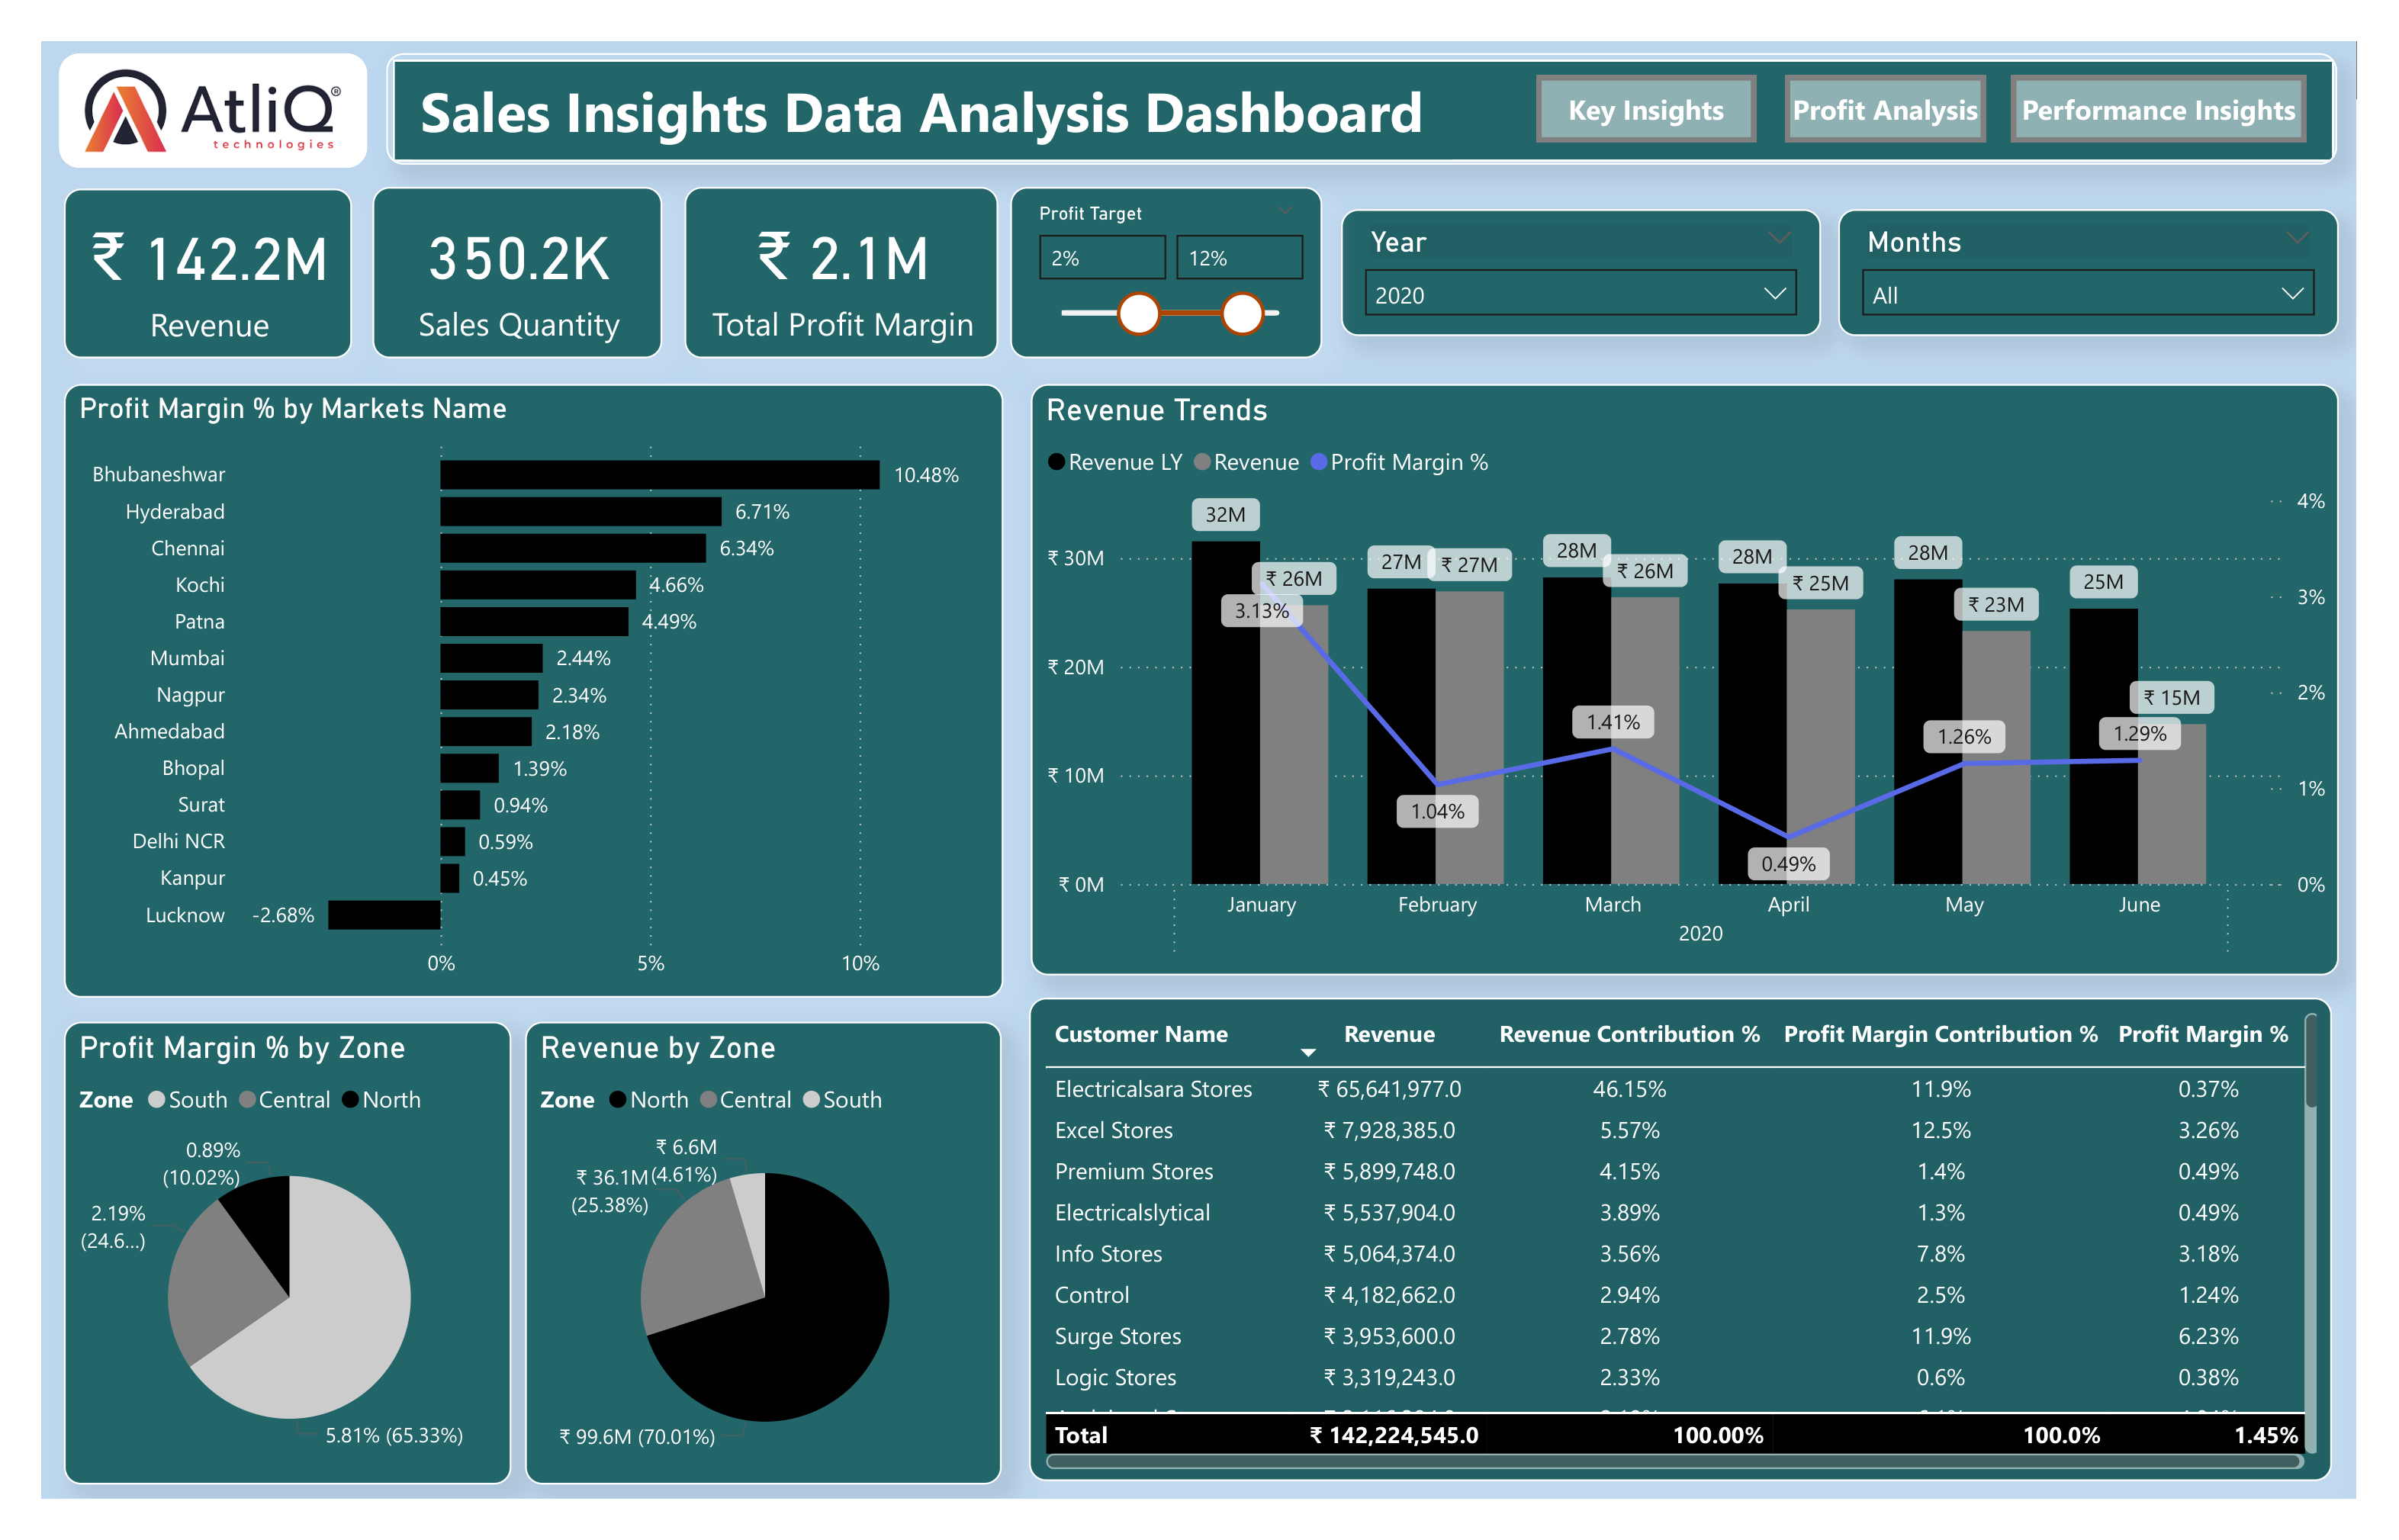

What the dashboard file says about the page in this screenshot:
{"tool":"powerbi","page":{"name":"Performance insights","canvas":[1350,850],"ordinal":2},"visuals":[{"type":"card","fields":{"Values":["keymeasure.Revenue"]},"box":[12.6,85.7,168.6,99.8],"z":0},{"type":"card","fields":{"Values":["keymeasure.sales quntity"]},"box":[193.3,85,168.3,100],"z":1000},{"type":"slicer","fields":{"Values":["sales date.year"]},"box":[758.3,98.3,280,73.3],"z":2000},{"type":"slicer","fields":{"Values":["sales date.cy_date"]},"box":[1048.3,98.3,291.7,73.3],"z":3000},{"type":"card","fields":{"Values":["keymeasure.Total Profit Margin"]},"box":[375,85,183.3,100],"z":4000},{"type":"barChart","title":"Profit Margin % by Markets Name","fields":{"Y":["keymeasure.Profit Margin %"],"Category":["sales markets.markets_name","sales customers.custmer_name","sales products.product_code"]},"box":[12.6,199.5,547.9,358.3],"z":5000},{"type":"lineClusteredColumnComboChart","title":"Revenue Trends","fields":{"Category":["sales date.cy_date.Variation.Date Hierarchy.Year","sales date.cy_date.Variation.Date Hierarchy.Month"],"Y":["keymeasure.Revenue LY","keymeasure.Revenue"],"Y2":["keymeasure.Profit Margin %"]},"box":[576.7,200,763.3,345],"z":6000},{"type":"slicer","fields":{"Values":["Profit Target1.Profit Target"]},"box":[565,85,181.7,100],"z":7000},{"type":"pieChart","title":"Profit Margin % by Zone","fields":{"Y":["keymeasure.Profit Margin %"],"Category":["sales markets.zone"]},"box":[12.6,571.8,261.3,269.8],"z":8000},{"type":"pieChart","title":"Revenue by Zone","fields":{"Category":["sales markets.zone"],"Y":["keymeasure.Revenue"]},"box":[282,572,278,270],"z":9000},{"type":"tableEx","fields":{"Values":["sales customers.custmer_name","keymeasure.Revenue","keymeasure.Revenue Contribution %","keymeasure.Profit Margin Contribution %","keymeasure.Profit Margin %"]},"box":[576,557.8,760.1,282.4],"z":10000},{"type":"shape","box":[200.9,7,1138,64.6],"z":11000},{"type":"actionButton","box":[1149.3,19.7,171.4,39.3],"z":12000},{"type":"actionButton","box":[1017.2,19.7,116.6,39.3],"z":13000},{"type":"actionButton","box":[872.5,19.7,127.9,39.3],"z":14000},{"type":"shape","box":[9.8,7,179.8,67.4],"z":15000},{"type":"image","box":[14,7,171.4,67.4],"z":16000},{"type":"textbox","box":[216.4,12.6,606.9,56.2],"z":17000}]}

Visuals, with their boxes in screenshot pixels (x1, y1, x2, y2), scaled from the page's 1350x850 canvas onto the 2399x1540 screenshot:
card - keymeasure.Revenue: bbox=(22, 156, 322, 336)
card - keymeasure.sales quntity: bbox=(343, 154, 642, 335)
slicer - sales date.year: bbox=(1348, 178, 1845, 311)
slicer - sales date.cy_date: bbox=(1863, 178, 2381, 311)
card - keymeasure.Total Profit Margin: bbox=(667, 154, 992, 335)
"Profit Margin % by Markets Name" barChart: bbox=(22, 362, 996, 1011)
"Revenue Trends" lineClusteredColumnComboChart: bbox=(1024, 362, 2381, 988)
slicer - Profit Target1.Profit Target: bbox=(1004, 154, 1327, 335)
"Profit Margin % by Zone" pieChart: bbox=(22, 1036, 487, 1525)
"Revenue by Zone" pieChart: bbox=(501, 1037, 995, 1526)
tableEx - sales customers.custmer_name x keymeasure.Revenue: bbox=(1024, 1011, 2375, 1522)
shape: bbox=(357, 13, 2379, 130)
actionButton: bbox=(2042, 36, 2347, 107)
actionButton: bbox=(1808, 36, 2015, 107)
actionButton: bbox=(1551, 36, 1778, 107)
shape: bbox=(18, 13, 337, 135)
image: bbox=(25, 13, 330, 135)
textbox: bbox=(384, 23, 1463, 124)
